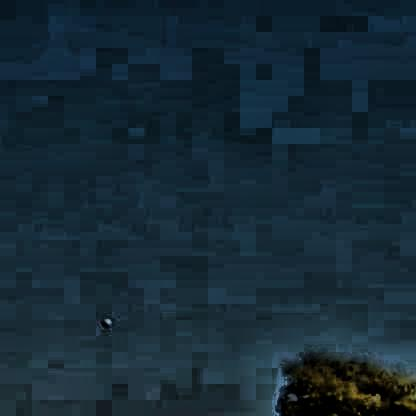golfball: (99, 315, 110, 325)
